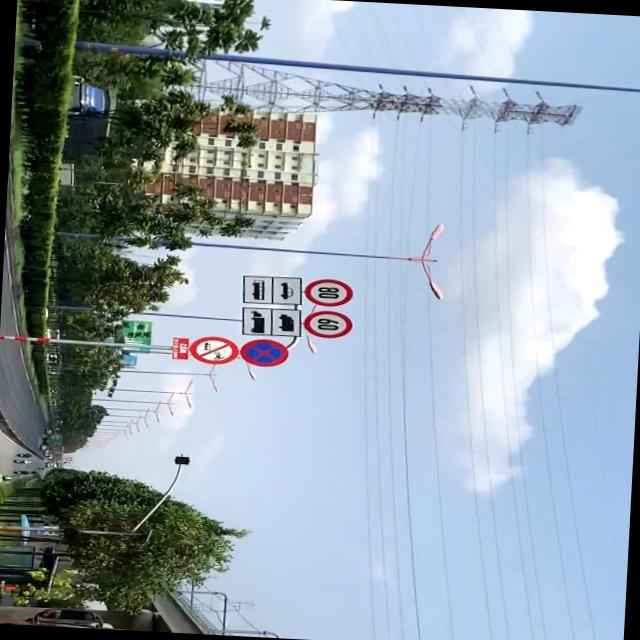P-104: (191, 335, 240, 365)
P-127: (300, 312, 354, 341), (306, 280, 353, 308)
P-130: (237, 337, 290, 368)
